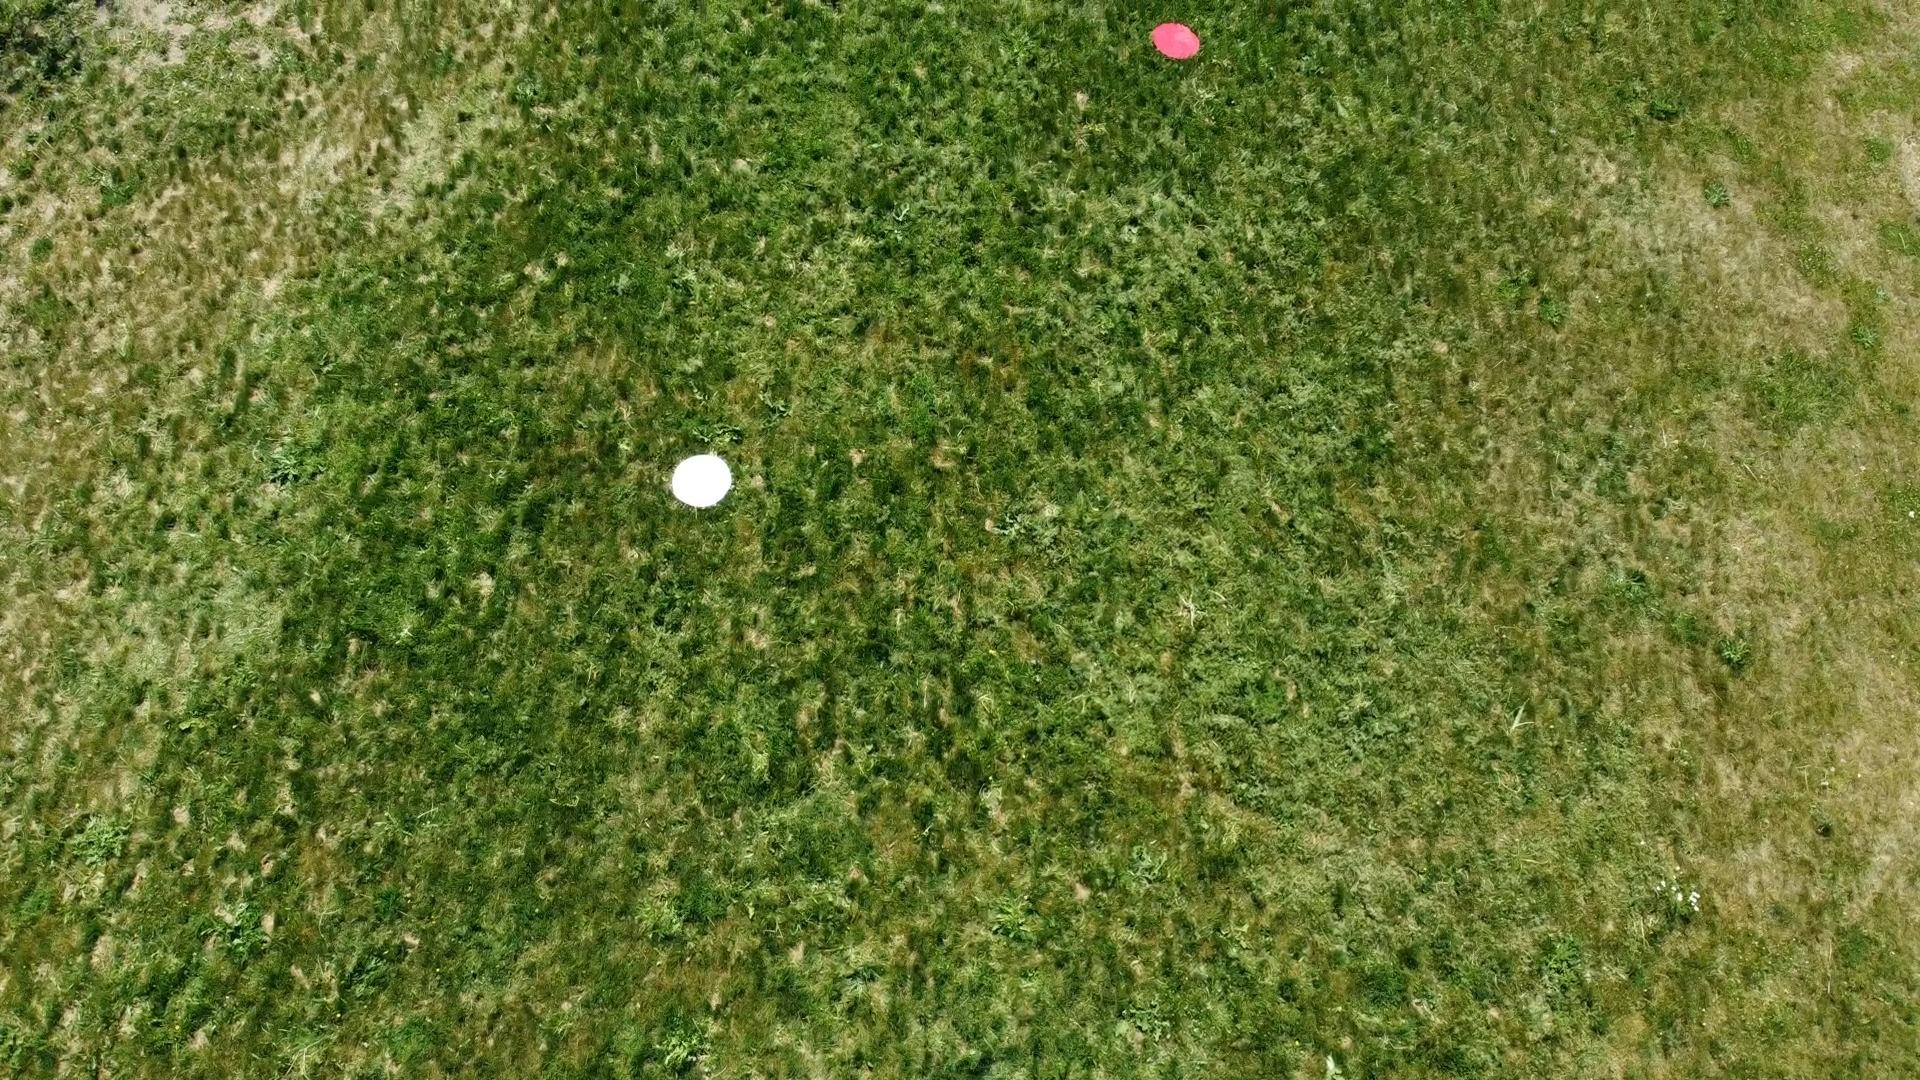Red: (1150, 21, 1201, 62)
Unknown: (669, 450, 737, 514)
